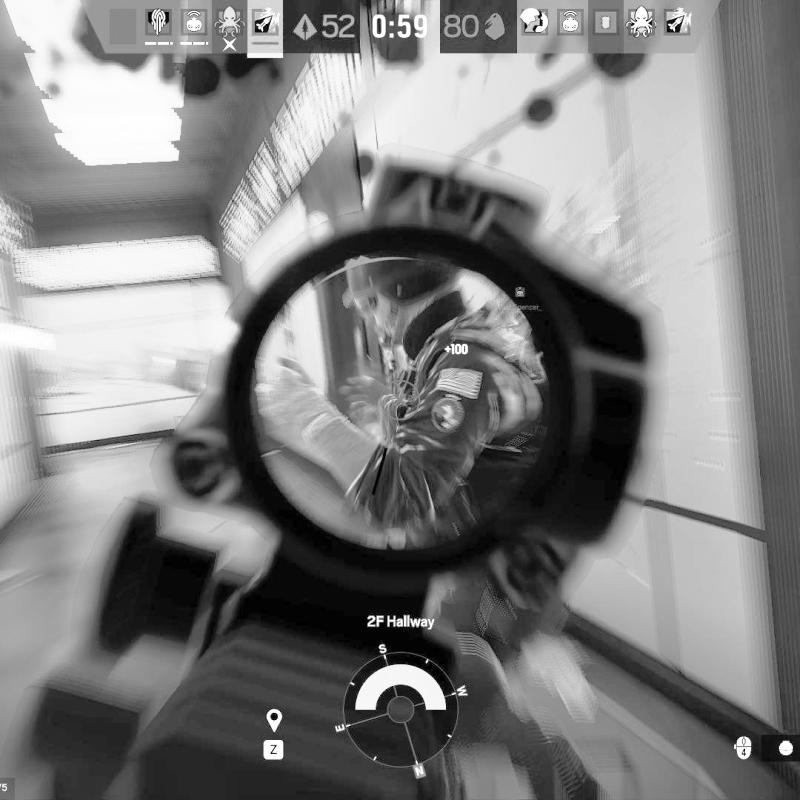Character: (252, 253, 606, 800)
Friend_label: (497, 284, 541, 313)
Head: (345, 256, 456, 348)
